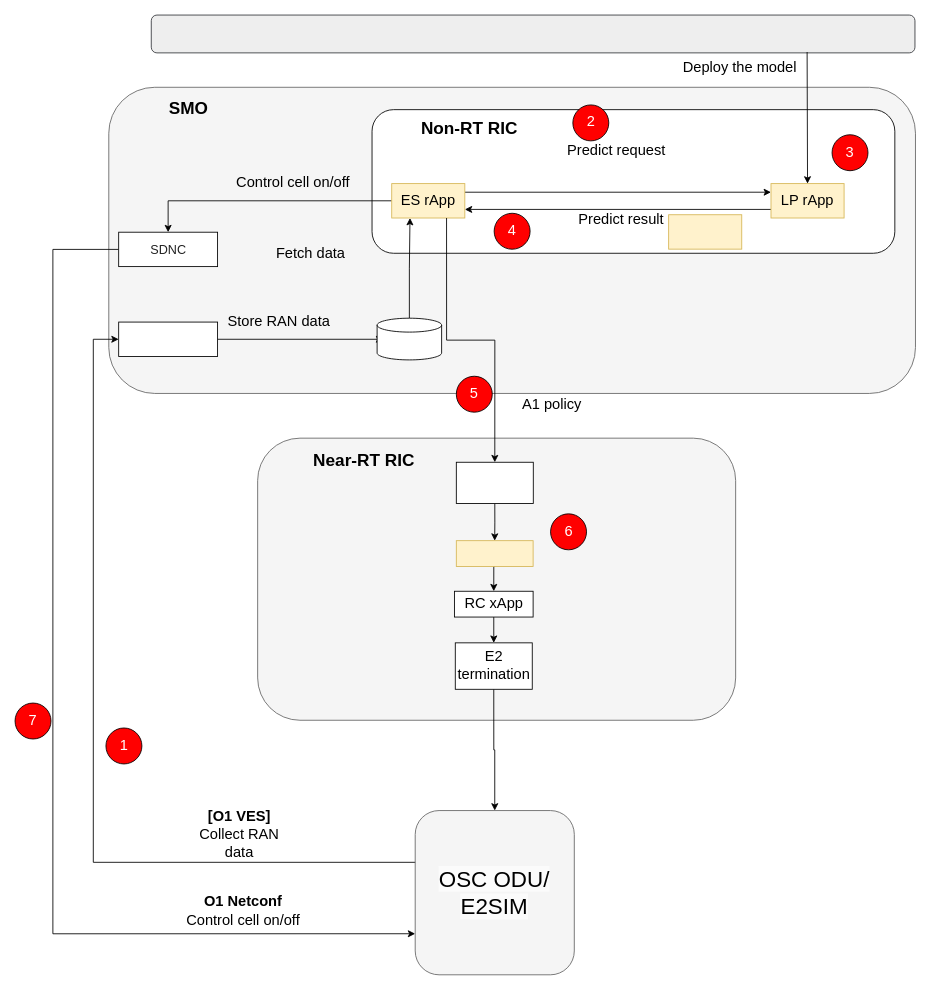
This 931x990 diagram has some shape labels left out. Each missing label, with the centre of its shape:
"A1 mediator" goes at pixel 494 482.
"AI/ML FW" goes at pixel 532 33.
"HO xApp" goes at pixel 494 553.
"InfluxDB" goes at pixel 409 338.
"rApp Manager" goes at pixel 705 231.
"Ves Collector" goes at pixel 168 338.
